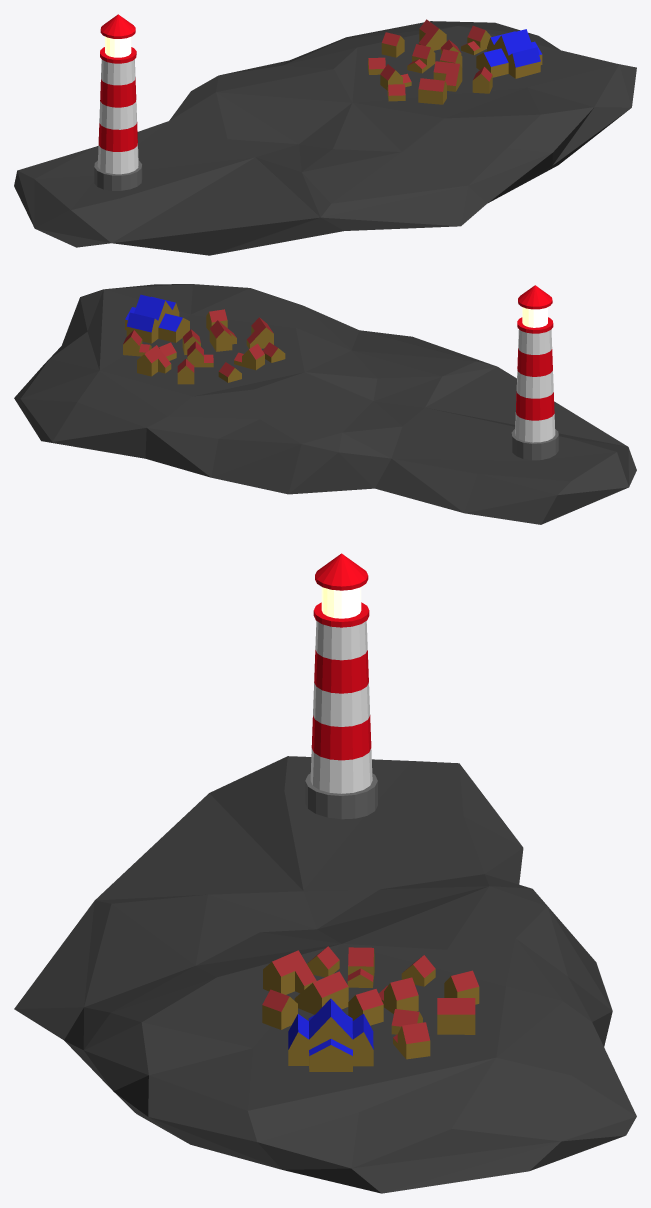
Rendered from Rocky Outcrop with Houses.glb.
The picture shows the model from 3 angles, top to bottom: view 1: azimuth 30°, elevation 25°; view 2: azimuth 150°, elevation 25°; view 3: azimuth 270°, elevation 25°; orthographic projection. The views are drawn at different scales.
Visible parts, largest first — view 1: Base Rocks, Lighthouse, Cube.008, Cube.004, Cube.005, Cube.011, Cube.006, Cube.012, Cube.010, Cube.003, Cube.001; view 2: Base Rocks, Lighthouse, Cube.008, Cube.011, Cube.005, Cube.004, Cube.003, Cube.012, Cube.006, Cube.010; view 3: Base Rocks, Lighthouse, Cube.008, Cube.004, Cube.011, Cube.005, Cube.012, Cube.001, Cube.003, Cube.006, Cube.009.
Boxes of the visible parts, x1,y1,x2,y2 form: Base Rocks: (14,21,636,255); Lighthouse: (94,14,142,190); Cube.008: (476,29,542,78); Cube.004: (418,78,446,104); Cube.005: (433,61,462,91); Cube.011: (418,19,446,50); Cube.006: (407,44,435,73); Cube.012: (461,25,491,54); Cube.010: (381,32,404,57); Cube.003: (380,64,411,90); Cube.001: (472,66,492,93); Base Rocks: (14,284,636,524); Lighthouse: (511,285,558,460); Cube.008: (125,294,189,343); Cube.011: (137,345,171,376); Cube.005: (209,320,236,351); Cube.004: (246,317,273,348); Cube.003: (234,343,264,370); Cube.012: (123,330,151,356); Cube.006: (187,341,213,367); Cube.010: (177,359,194,384); Base Rocks: (14,756,636,1193); Lighthouse: (305,553,377,819); Cube.008: (288,998,373,1071); Cube.004: (263,950,316,994); Cube.011: (437,998,475,1034); Cube.005: (294,971,348,1014); Cube.012: (393,1022,430,1059); Cube.001: (262,989,297,1029); Cube.003: (347,947,374,987); Cube.006: (378,977,418,1013); Cube.009: (348,989,383,1025).
Size of what is drawn, in the model's own units: 21.1 by 8.05 by 13.06.
